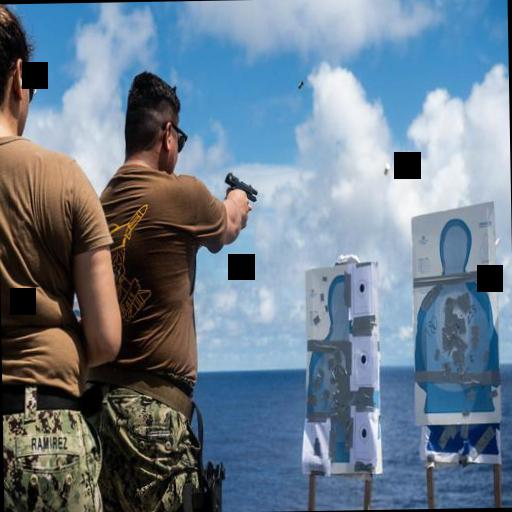Handgun: (220, 168, 258, 214)
